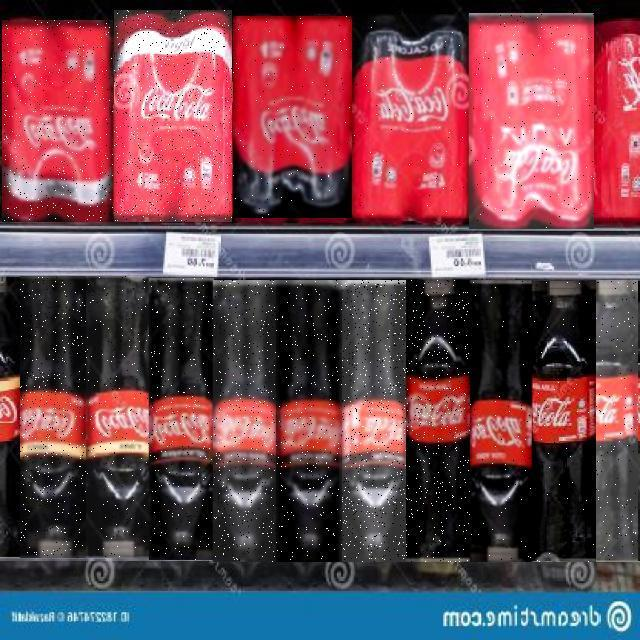Drinks: (469, 13, 594, 229), (114, 10, 232, 222), (353, 14, 471, 218), (233, 16, 352, 218), (2, 20, 113, 222), (340, 280, 406, 562), (276, 280, 342, 562), (20, 277, 86, 559), (406, 280, 471, 562), (86, 276, 151, 558), (149, 278, 214, 560), (213, 280, 278, 562), (532, 281, 596, 563), (470, 280, 533, 562), (597, 280, 639, 562)
